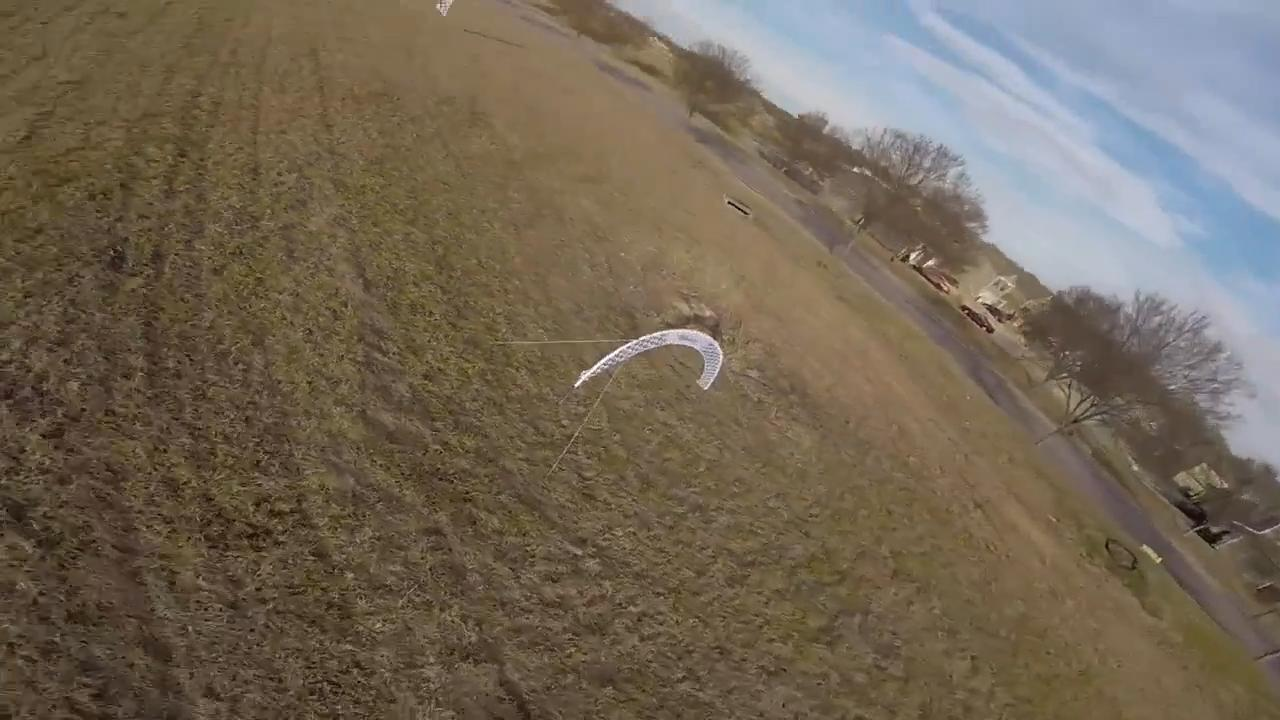gate: (571, 326, 723, 397)
